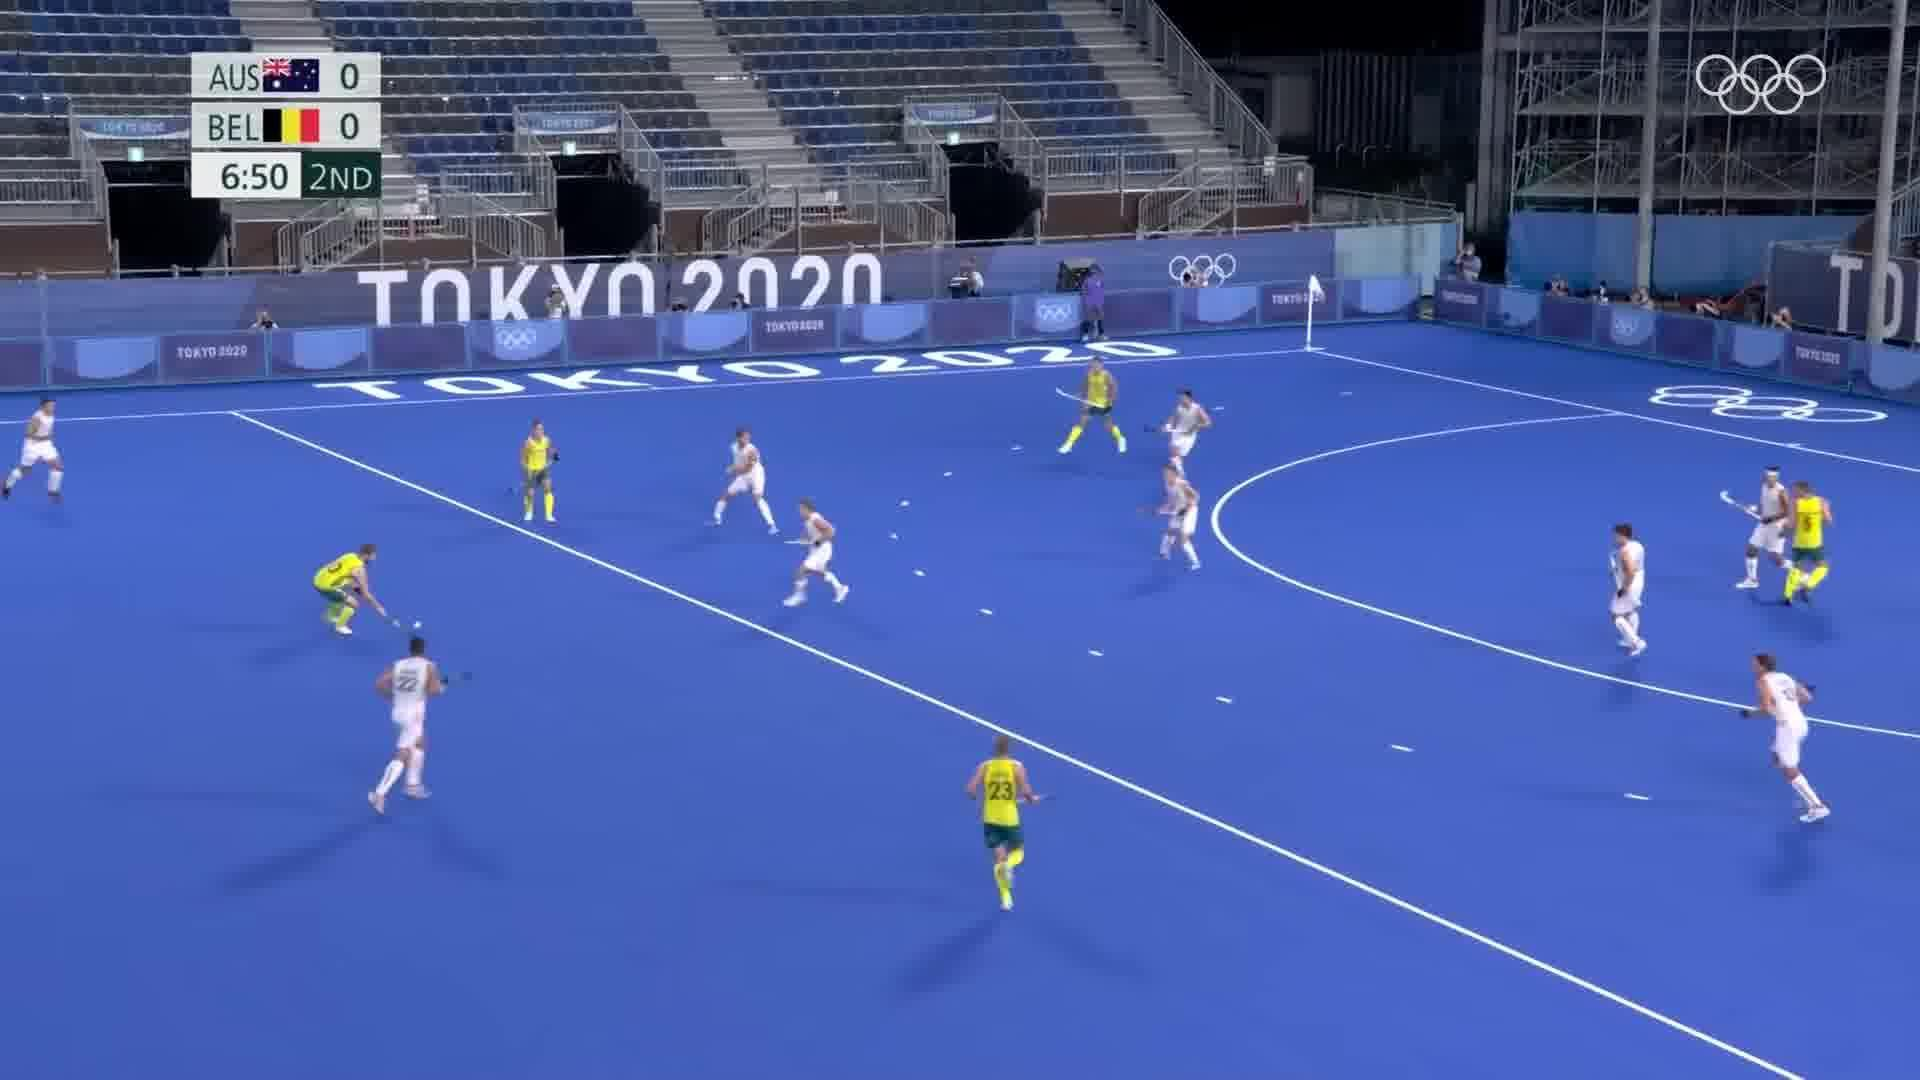ball: (404, 611, 429, 632)
